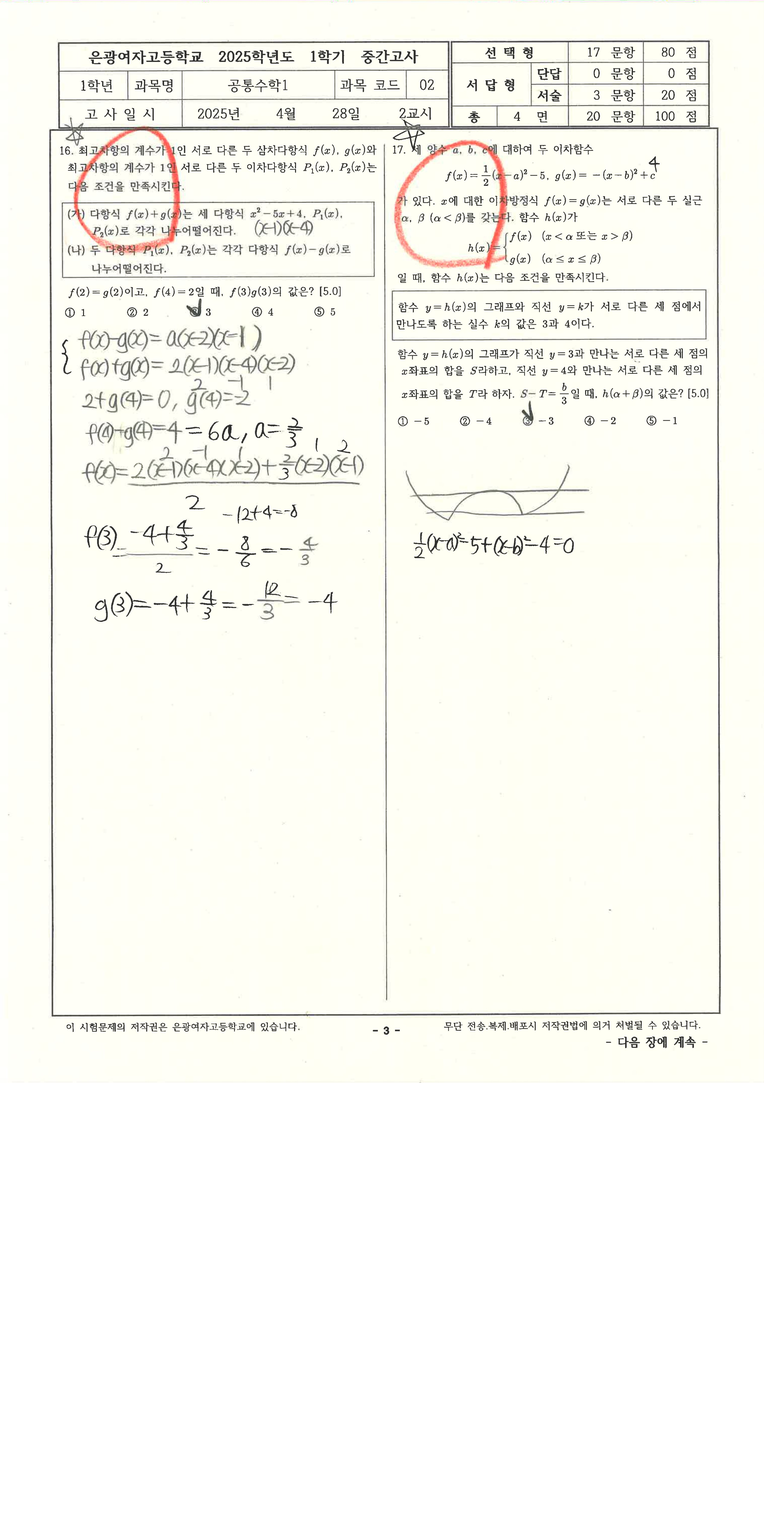problem: (388, 136, 711, 432), (59, 138, 379, 321)
